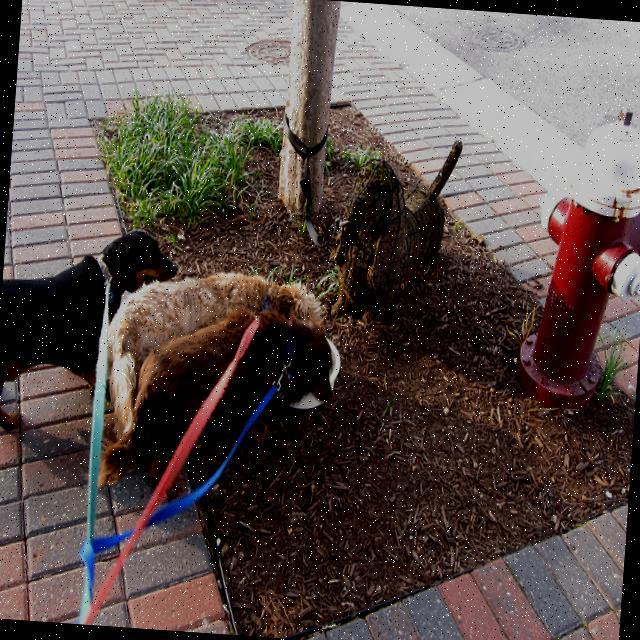fire_hydrant: (510, 99, 640, 416)
